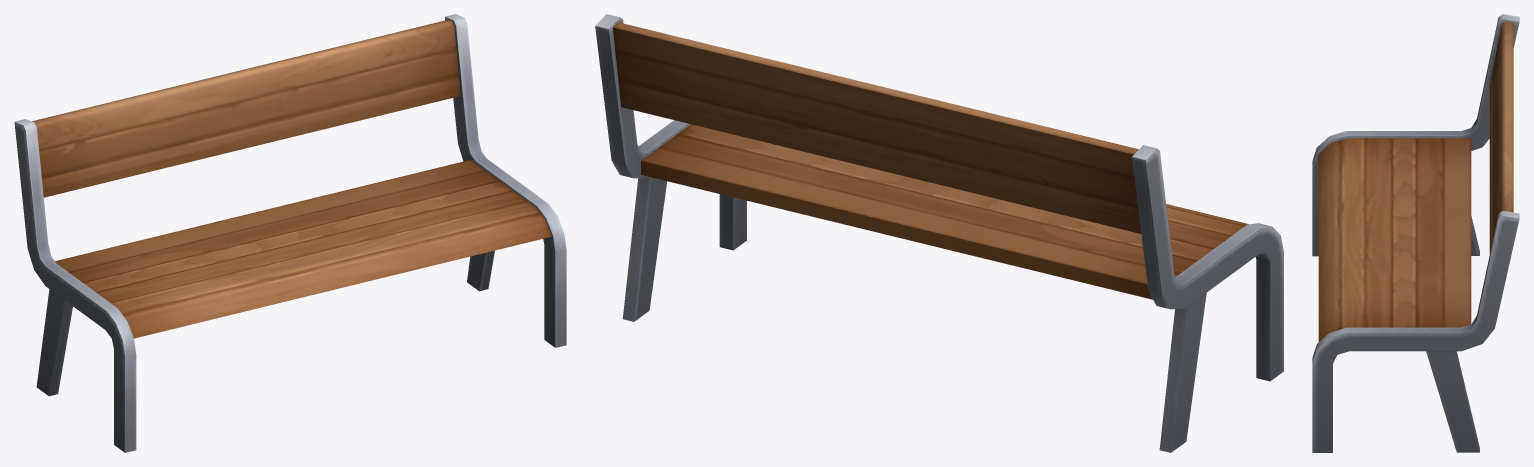
Rendered from Bench.FBX.
3 renders of one model, left to right at view 1: azimuth 30°, elevation 25°; view 2: azimuth 150°, elevation 25°; view 3: azimuth 270°, elevation 25°, orthographic. The views are drawn at different scales.
Parts seen in each view (by area): view 1: Bench; view 2: Bench; view 3: Bench.
Boxes of the visible parts, x1,y1,x2,y2 form: Bench: [14, 14, 566, 452]; Bench: [595, 14, 1283, 452]; Bench: [1312, 14, 1519, 452].
Size of the model in its own units: 178 by 97.54 by 77.24.
